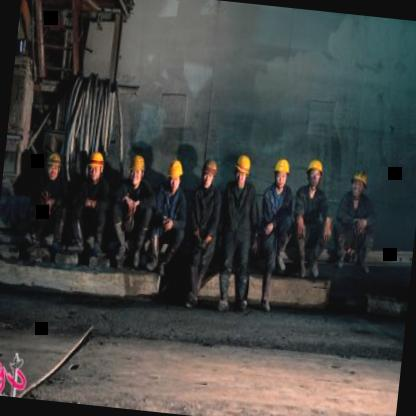helmet: (162, 155, 184, 198), (347, 162, 369, 204), (231, 150, 252, 192), (271, 155, 293, 195), (84, 147, 107, 185), (126, 150, 147, 190), (198, 156, 220, 192), (44, 148, 64, 186), (304, 157, 324, 194)
